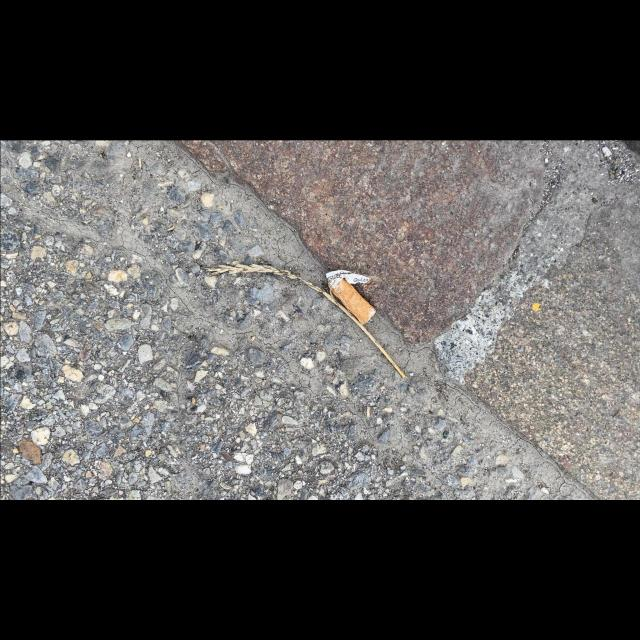cigarette: (326, 269, 376, 325)
